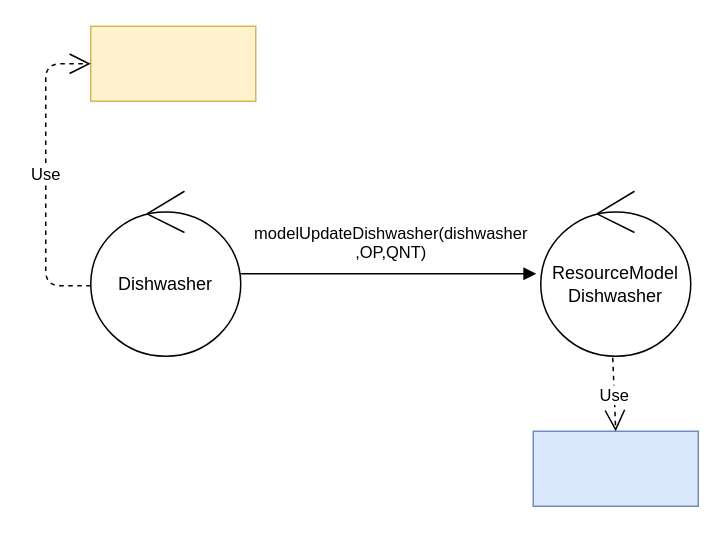
The diagram is 725 pixels wide and 533 high, and some of its shapes have lost their labels. The box of each missing label's shape, as (x1, y1, x2, y2) in pixels:
dishwasher.java: (89, 25, 256, 101)
dishwasherModel.pl: (532, 430, 698, 506)
